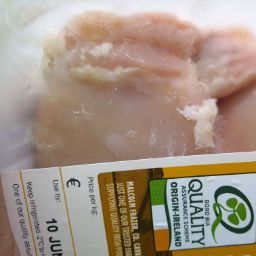Chicken Thigh Fillets: (34, 7, 256, 153)
